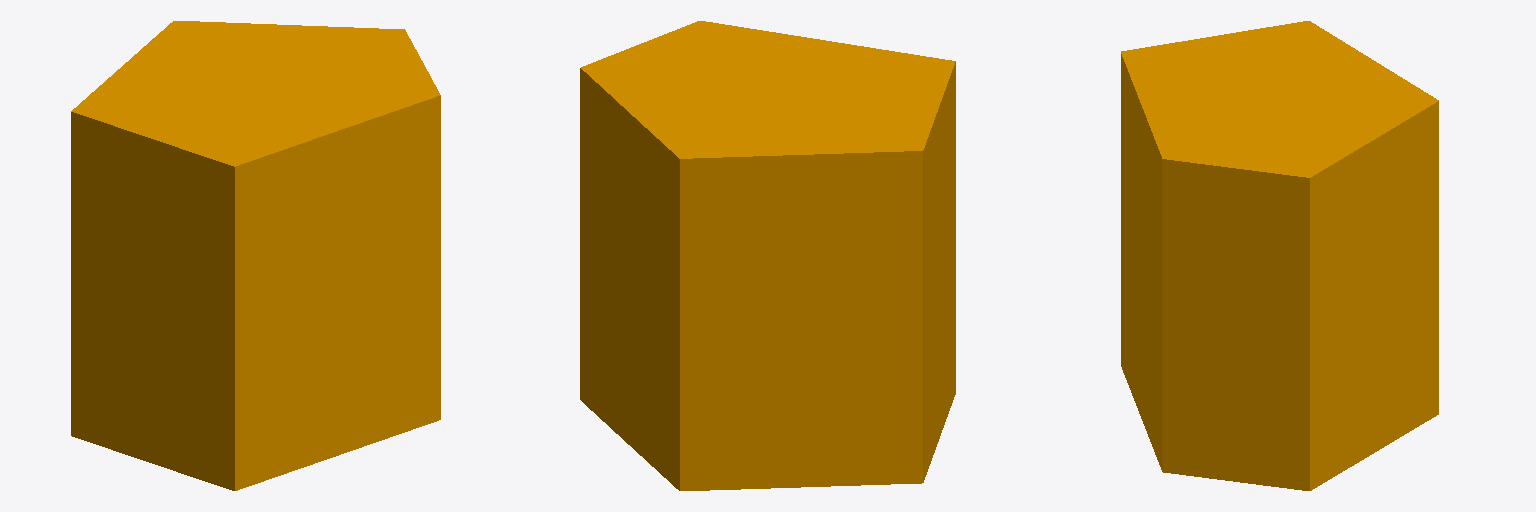
robot.urdf — object:
<?xml version="1.0"?>
<robot name="object">
  <link name="object">
    <visual>
      <origin xyz="0 0 0"/>
      <geometry>
        <mesh filename="meshes/generated/col_104.obj" scale="0.03 0.03 0.03"/>
      </geometry>
    </visual>
    <collision>
      <origin xyz="0 0 0"/>
      <geometry>
        <mesh filename="meshes/generated/col_104.obj" scale="0.03 0.03 0.03"/>
      </geometry>
    </collision>
    <inertial>
      <density value="1000.0"/>
    </inertial>
  </link>
</robot>

--- Facts derived from the render (not from the file) ---
3 views of the same robot in one strip: view 1: azimuth 30°, elevation 25°; view 2: azimuth 150°, elevation 25°; view 3: azimuth 270°, elevation 25° (orthographic).
Model object with 1 links and 0 joints (none), rooted at object, posed all joints at 0.
Visible links, largest first — view 1: object; view 2: object; view 3: object.
Boxes of the visible links, left/top/right/bottom form: object: left=71, top=21, right=440, bottom=490; object: left=580, top=21, right=955, bottom=490; object: left=1121, top=21, right=1438, bottom=490.
Size in the robot's own frame: 0.0647 by 0.0553 by 0.06 metres.
Meshes: 1 distinct files referenced, 1 mesh visuals loaded (1 OBJ).
